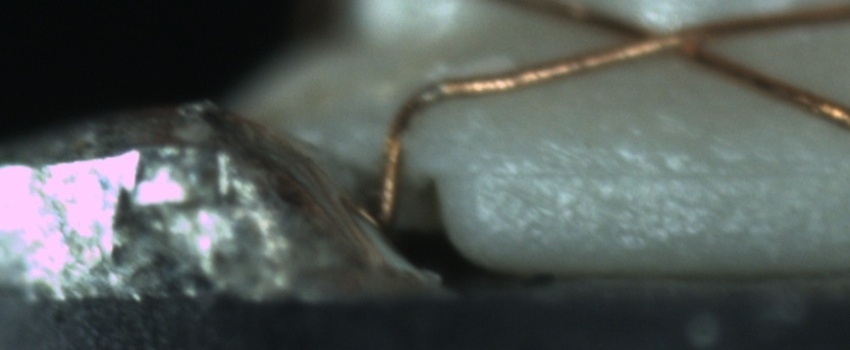CL: (600, 9, 726, 63)
DL: (478, 136, 849, 207)
